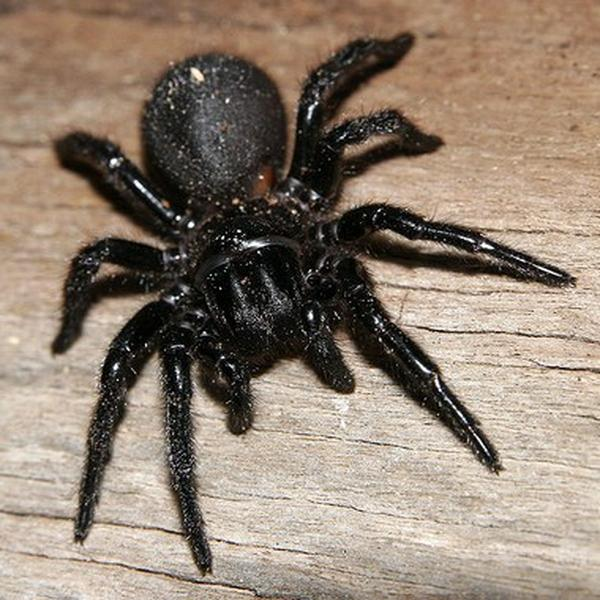Tarantula Spider: (58, 41, 547, 524)
